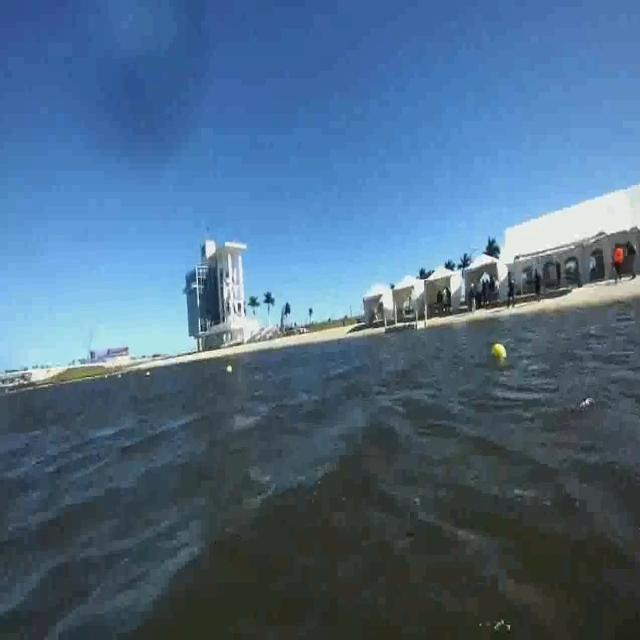yellow-buoy: (491, 342, 506, 360)
